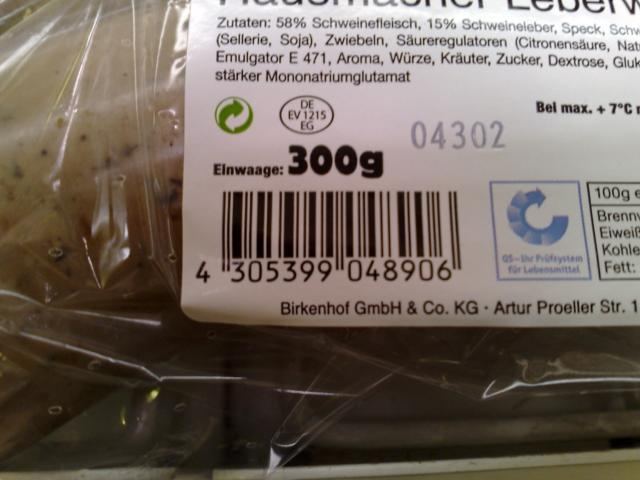Barcode: (190, 182, 479, 294)
